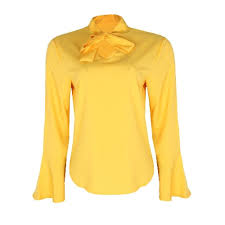C_blouse: (31, 7, 190, 202)
